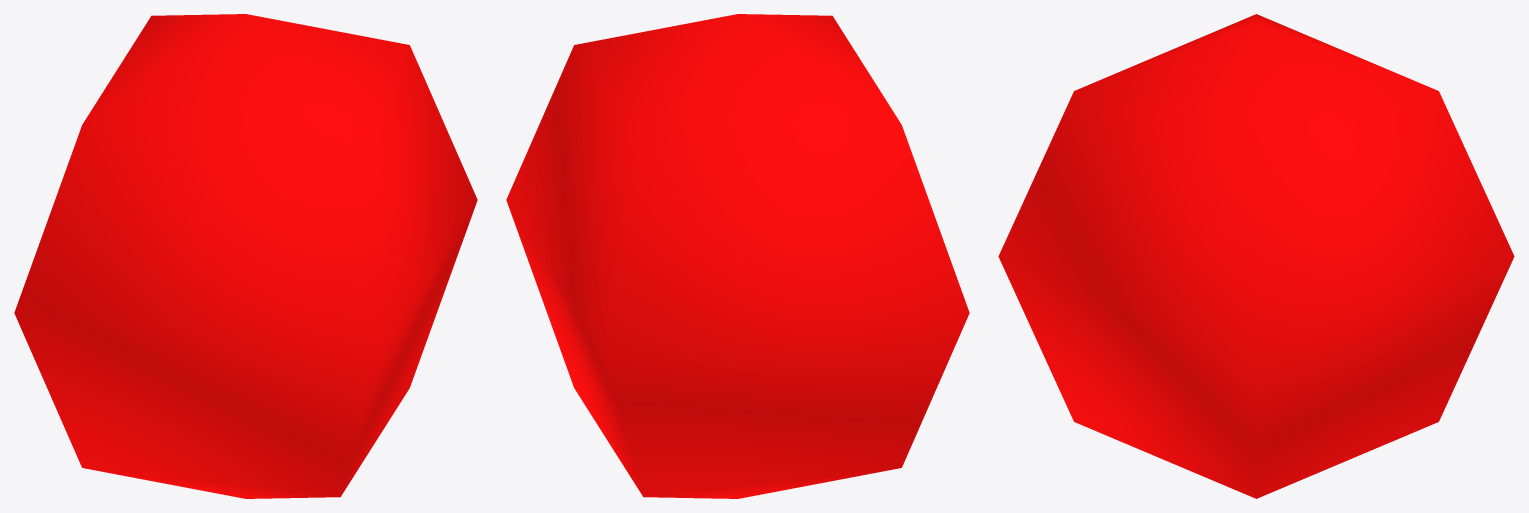
3 renders of one model, left to right at view 1: azimuth 30°, elevation 25°; view 2: azimuth 150°, elevation 25°; view 3: azimuth 270°, elevation 25°, orthographic. The views are drawn at different scales.
Bounding box in the file's own units: 0.5926 × 0.5926 × 0.5926.
